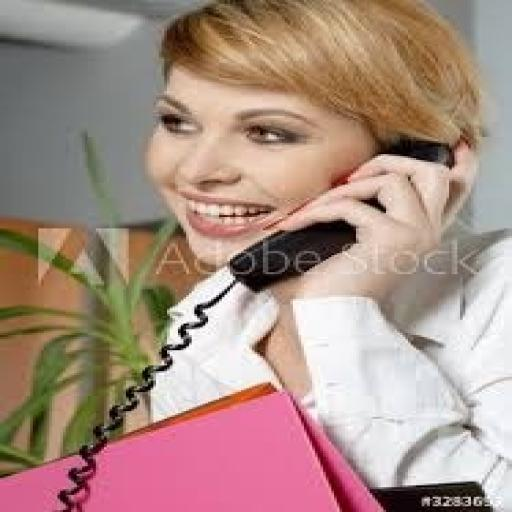calling: (123, 0, 509, 510)
